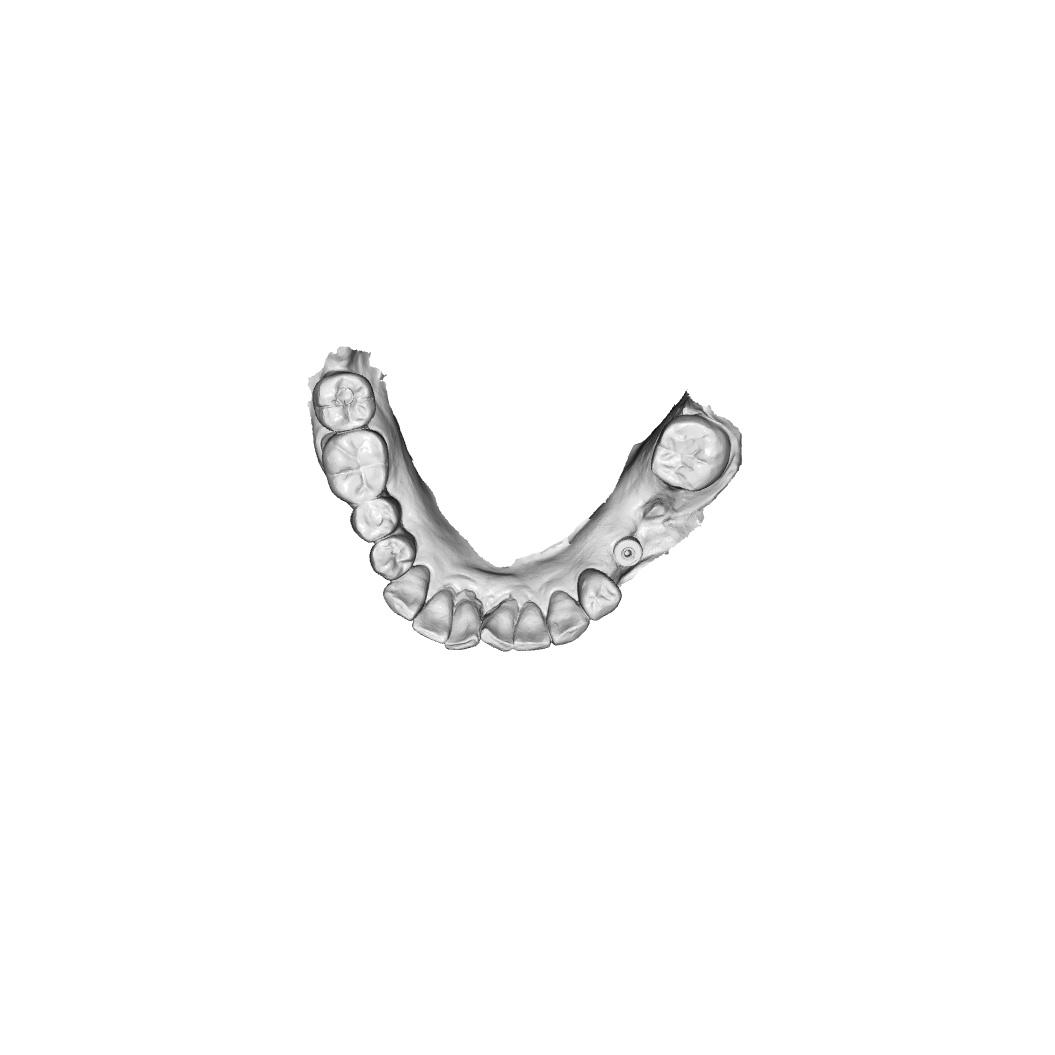canine: (383, 564, 431, 622), (546, 589, 590, 647)
implant: (612, 536, 644, 568)
incisor: (411, 589, 453, 646), (479, 598, 518, 653), (513, 601, 552, 652), (444, 600, 482, 651)
molar: (650, 414, 731, 493), (321, 428, 390, 504), (311, 371, 378, 433)
premolar: (349, 494, 403, 544), (576, 567, 623, 622), (369, 530, 418, 581)
